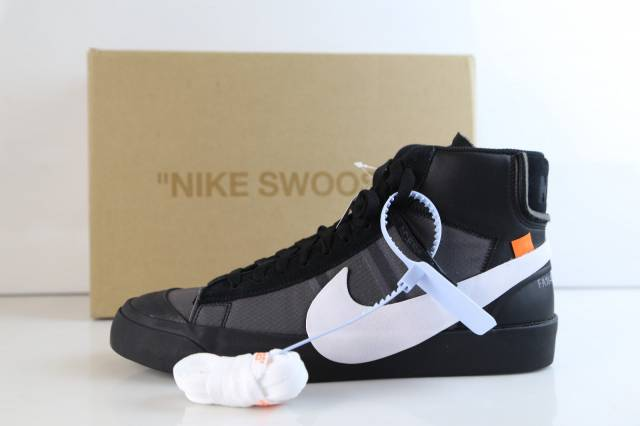Nike Blazer Grim Reaper: (99, 122, 562, 388)
